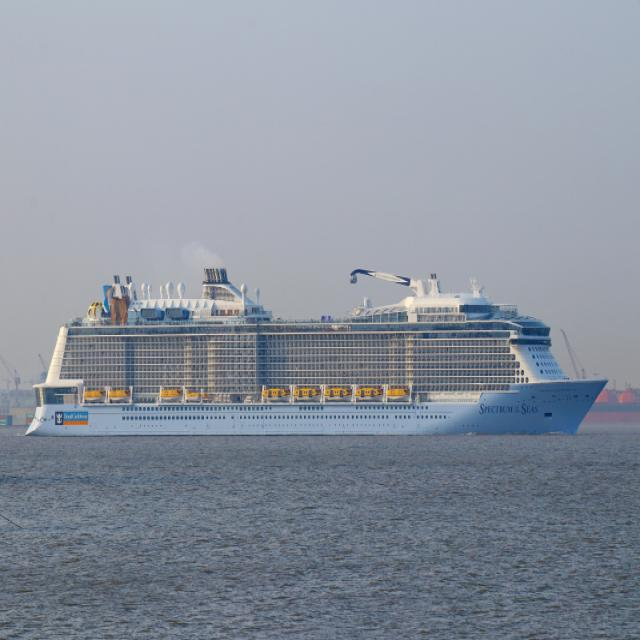cruises: (25, 258, 611, 442)
